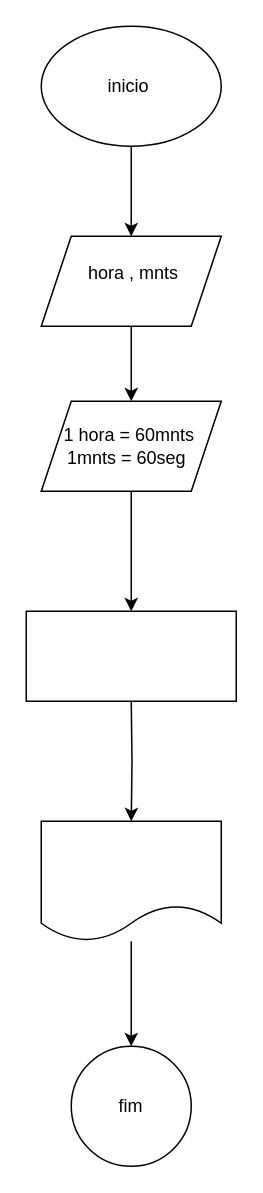
This 263x1193 diagram has some shape labels left out. Each missing label, with the centre of its shape:
"conversão" goes at [130,880].
"conversão = hora(mnts /60)" goes at [130,655].
